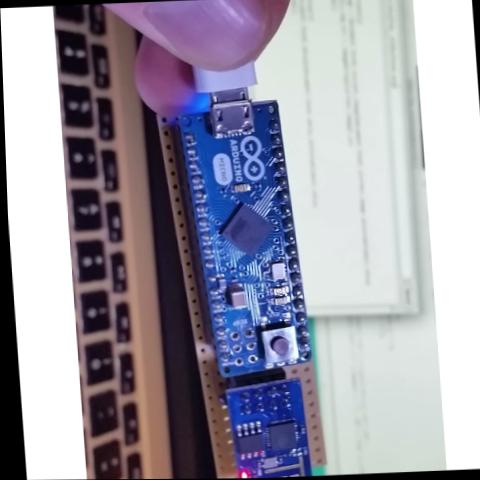Arduino-Micro: (162, 93, 318, 391)
